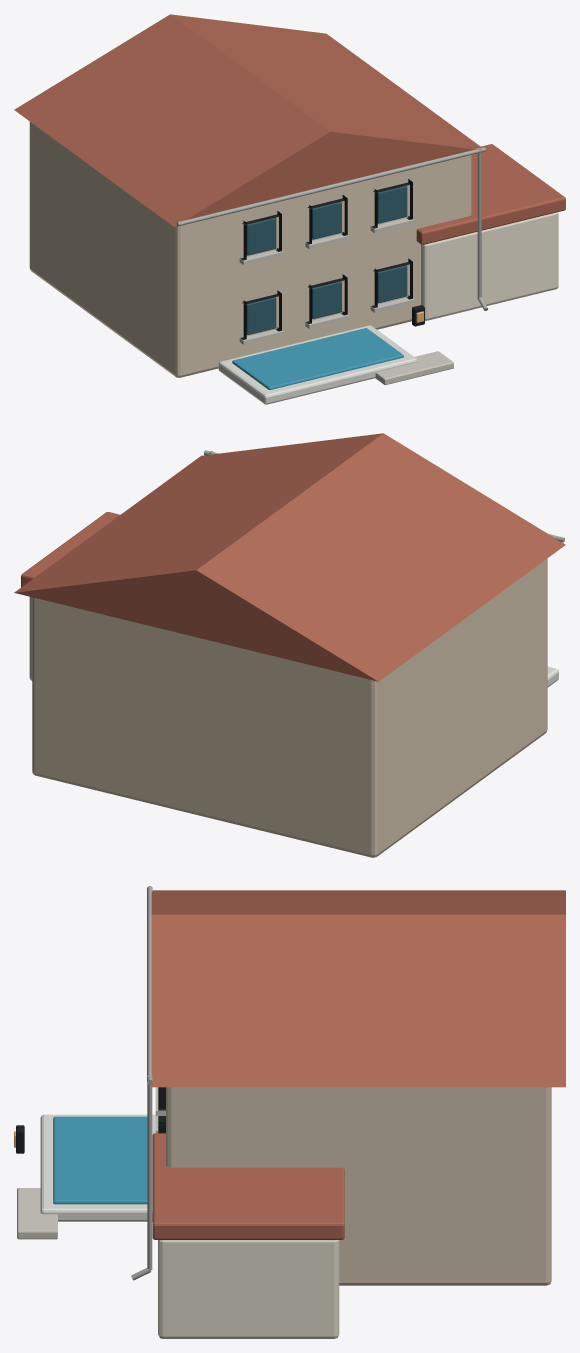
Rendered from RES_LUX_2x2_001.glb.
The picture shows the model from 3 angles, top to bottom: view 1: azimuth 30°, elevation 25°; view 2: azimuth 150°, elevation 25°; view 3: azimuth 270°, elevation 25°; orthographic projection. The views are drawn at different scales.
Visible parts, largest first — view 1: RES_LUX_2x2_001_Visual; view 2: RES_LUX_2x2_001_Visual; view 3: RES_LUX_2x2_001_Visual.
Part boxes in pixels (bbox=[...]): RES_LUX_2x2_001_Visual: bbox=[14, 14, 565, 404]; RES_LUX_2x2_001_Visual: bbox=[14, 433, 565, 857]; RES_LUX_2x2_001_Visual: bbox=[14, 886, 565, 1338].
Size of what is drawn, in the model's own units: 3.72 by 1.96 by 3.5.
